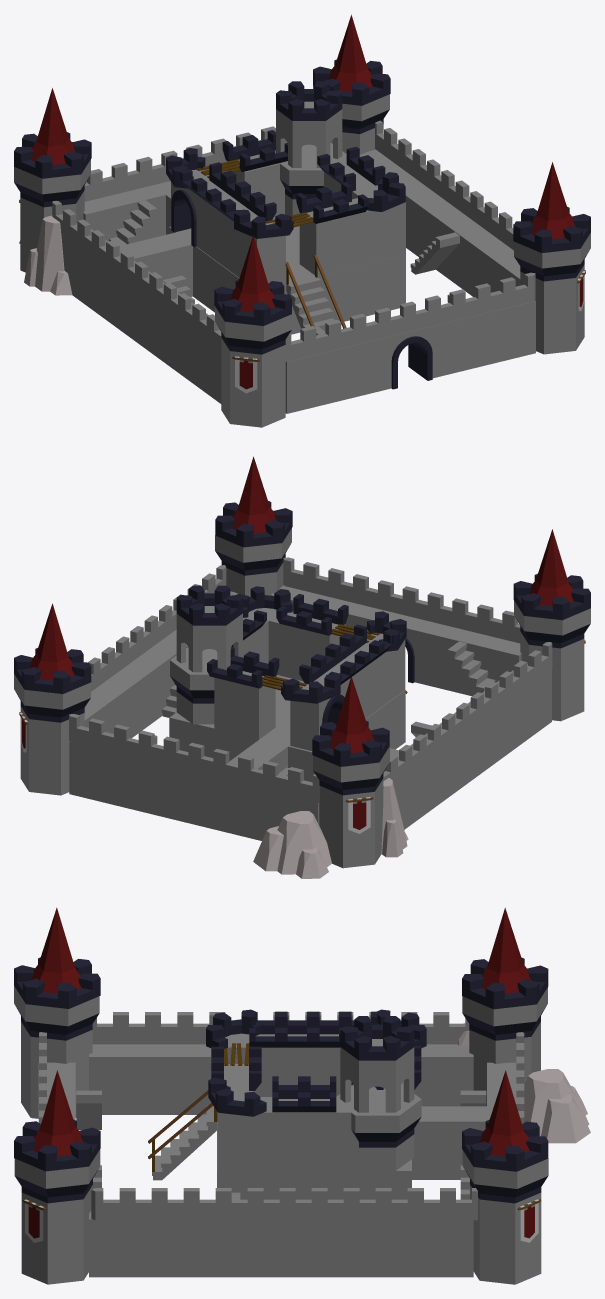
3 renders of one model, top to bottom at view 1: azimuth 30°, elevation 25°; view 2: azimuth 150°, elevation 25°; view 3: azimuth 270°, elevation 25°, orthographic. The views are drawn at different scales.
Parts seen in each view (by area): view 1: mergedBlocks; view 2: mergedBlocks; view 3: mergedBlocks.
Part boxes in pixels (x1,y1,x2,y2): mergedBlocks: (14, 14, 590, 427); mergedBlocks: (14, 456, 590, 878); mergedBlocks: (14, 907, 590, 1284).
Bounding box in the file's own units: 74.34 × 34.4 × 90.06.
